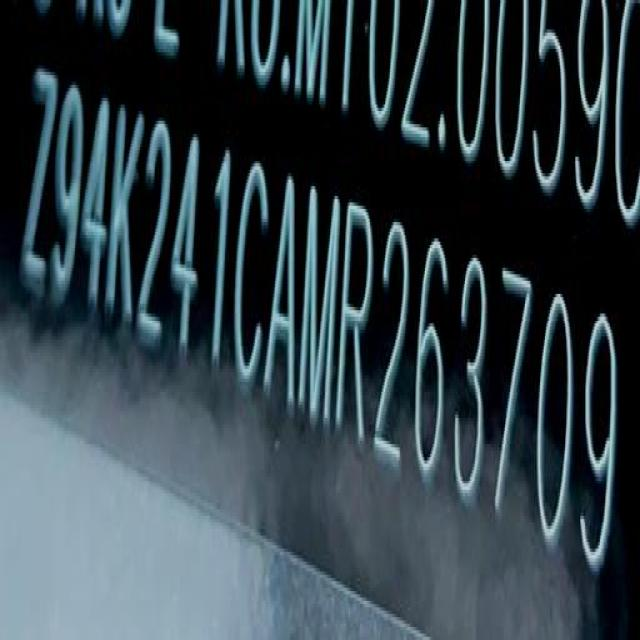0: (538, 292, 578, 561)
1: (207, 142, 233, 376)
2: (378, 217, 413, 476), (137, 117, 173, 346)
3: (457, 252, 490, 510)
4: (80, 89, 115, 319), (172, 137, 208, 360)
6: (414, 230, 450, 488)
7: (497, 262, 535, 535)
9: (582, 313, 621, 580), (48, 76, 85, 306)
A: (268, 175, 303, 419)
C: (232, 156, 273, 395)
K: (104, 99, 145, 333)
M: (296, 192, 342, 434)
R: (337, 200, 376, 450)
Z: (14, 63, 59, 297)
